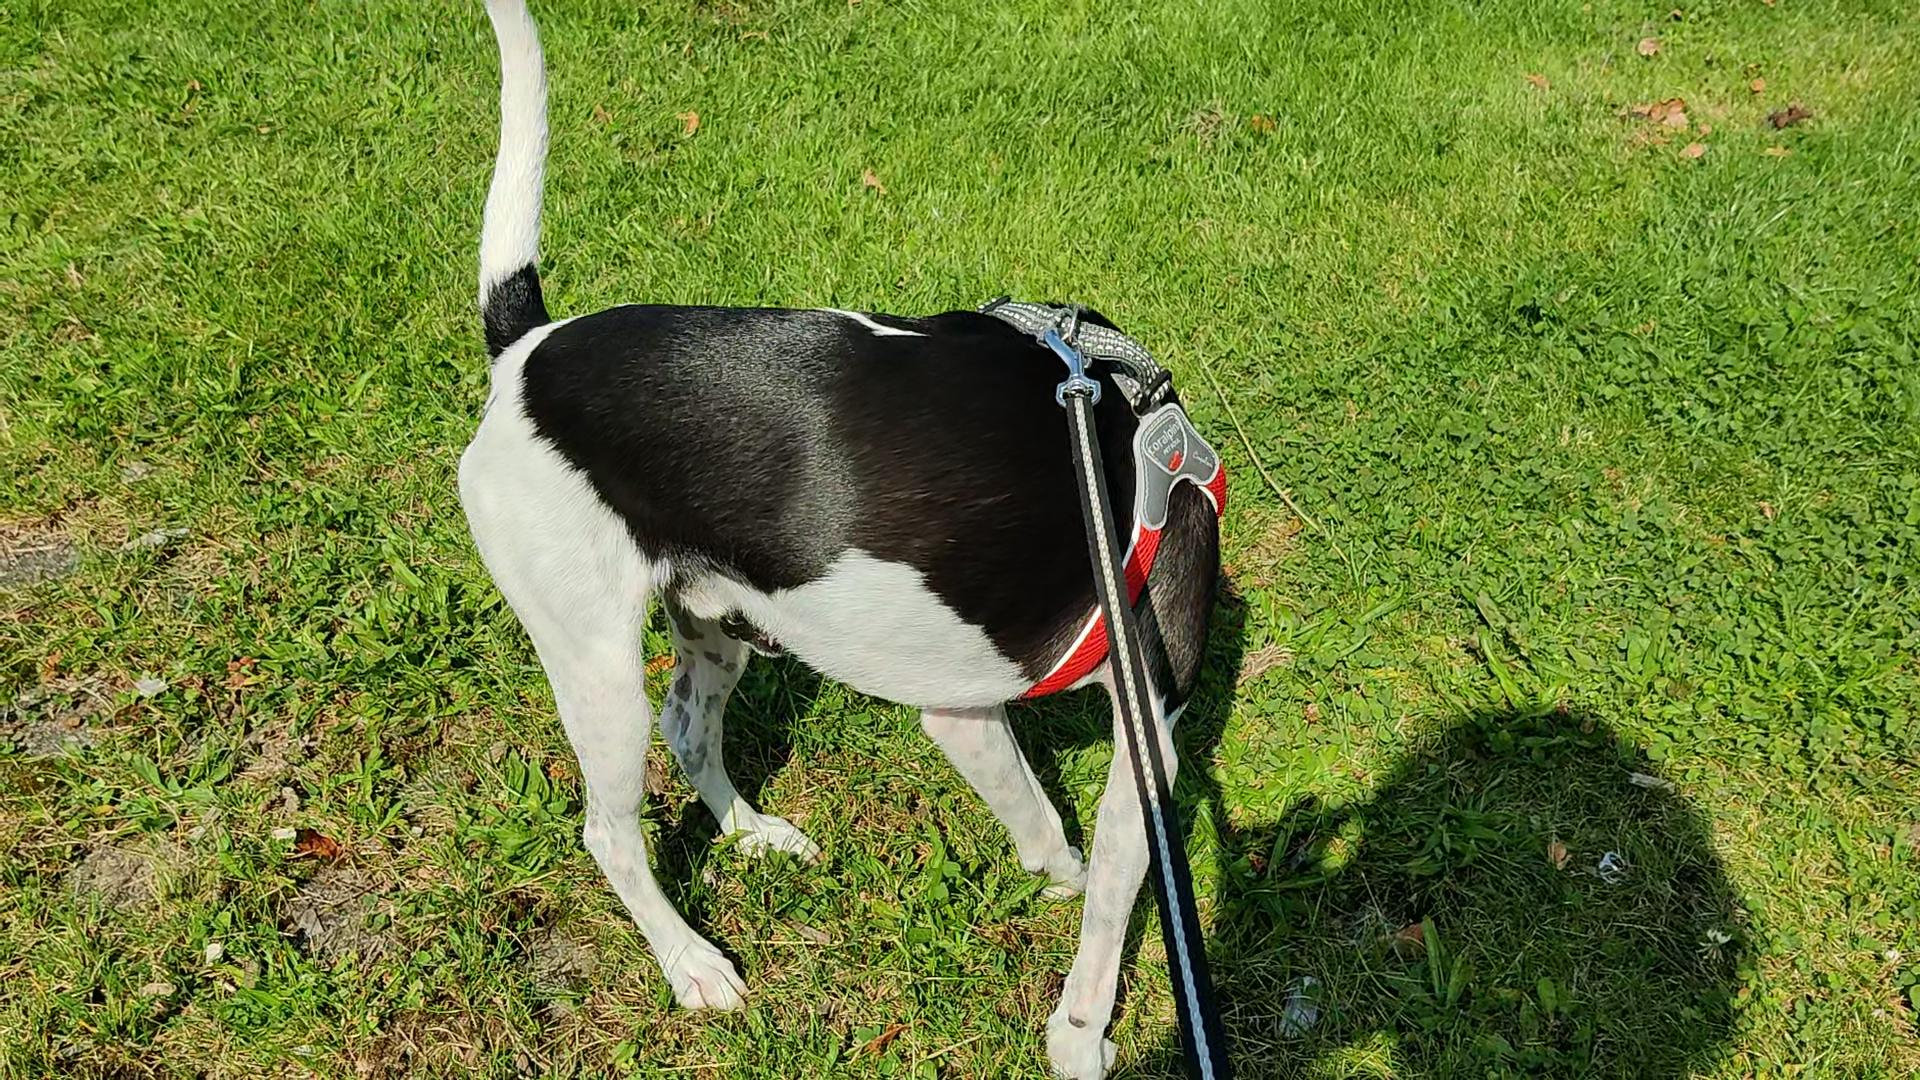Dog: (444, 0, 1244, 1079)
